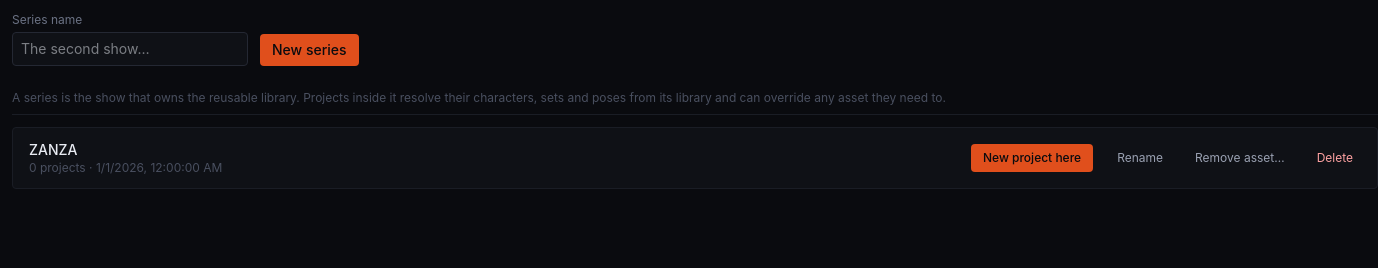
SeriesBrowser › surfaces a refused deletion as the status message
Check: the text "ZANZA" is shown, box [29,141,77,158]
Click the button "Delete" at (1335, 158), box [1309,144,1361,172]
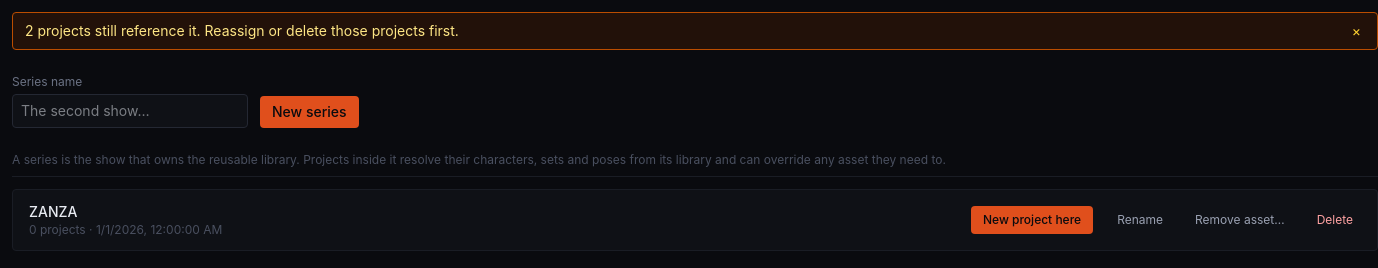
Check: the message shows "still reference it", box [25,22,459,39]
